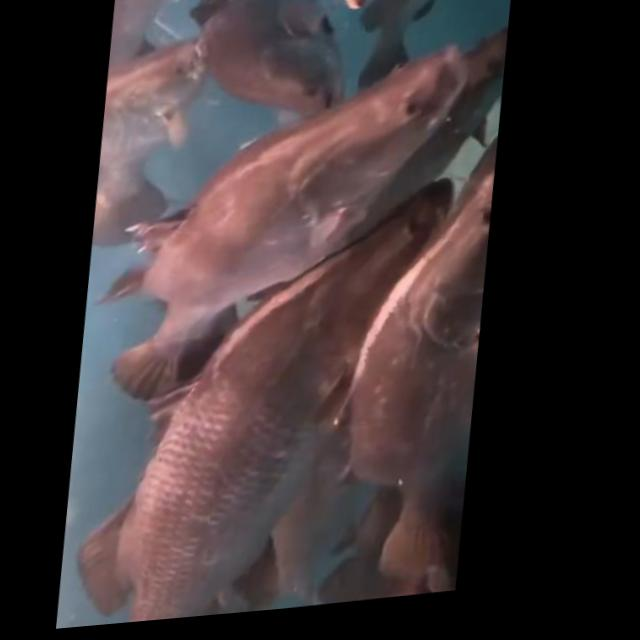Seabass: (62, 172, 463, 628), (81, 40, 471, 409), (298, 166, 501, 584), (85, 36, 207, 256), (173, 0, 345, 133)
